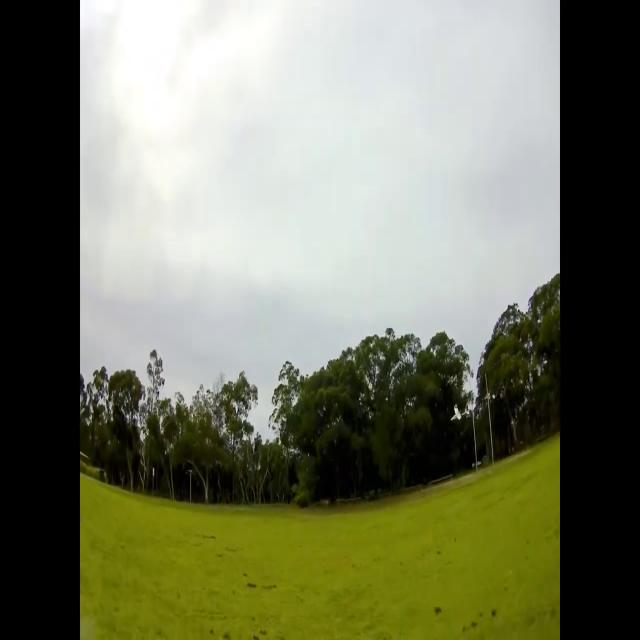iha: (452, 404, 469, 421)
